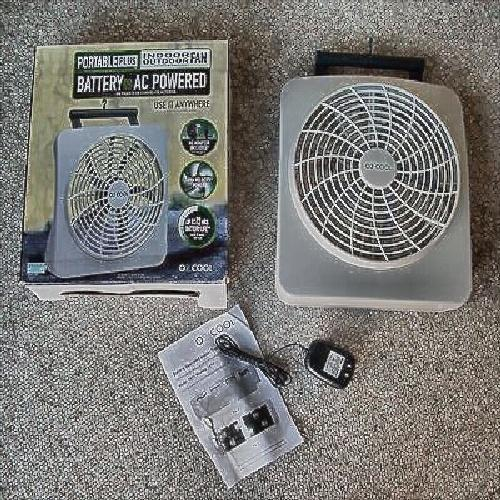fan: (281, 76, 473, 316)
